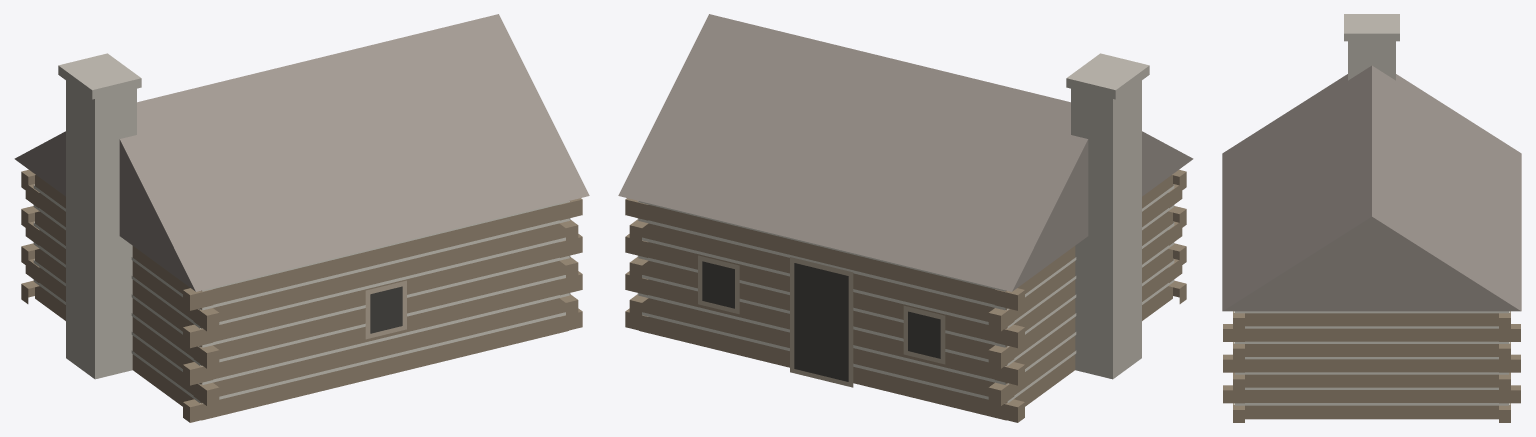
File: miller_tannery__log_1831.glb
3 renders of one model, left to right at view 1: azimuth 30°, elevation 25°; view 2: azimuth 150°, elevation 25°; view 3: azimuth 270°, elevation 25°, orthographic. The views are drawn at different scales.
Visible parts, largest first — view 1: miller_tannery__log_1831; view 2: miller_tannery__log_1831; view 3: miller_tannery__log_1831.
Boxes of the visible parts, box(x1,y1,x2,y2) form: miller_tannery__log_1831: box(14, 14, 589, 422); miller_tannery__log_1831: box(618, 14, 1193, 422); miller_tannery__log_1831: box(1222, 14, 1521, 422).
Size of the model in its own units: 8.07 by 5.39 by 6.
